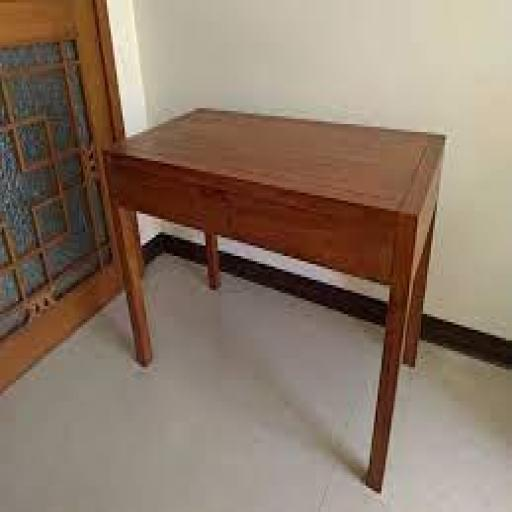table: (98, 59, 460, 400)
